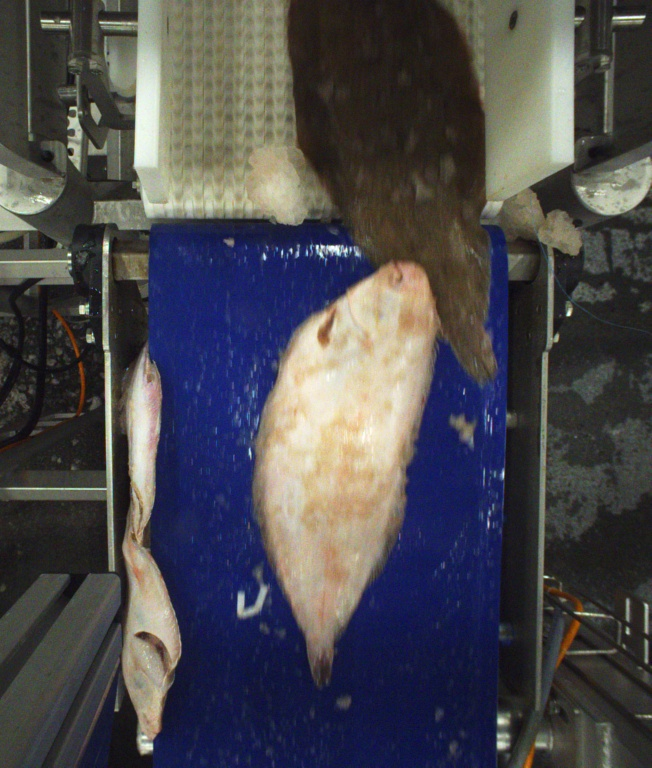SOL: (283, 0, 501, 378)
